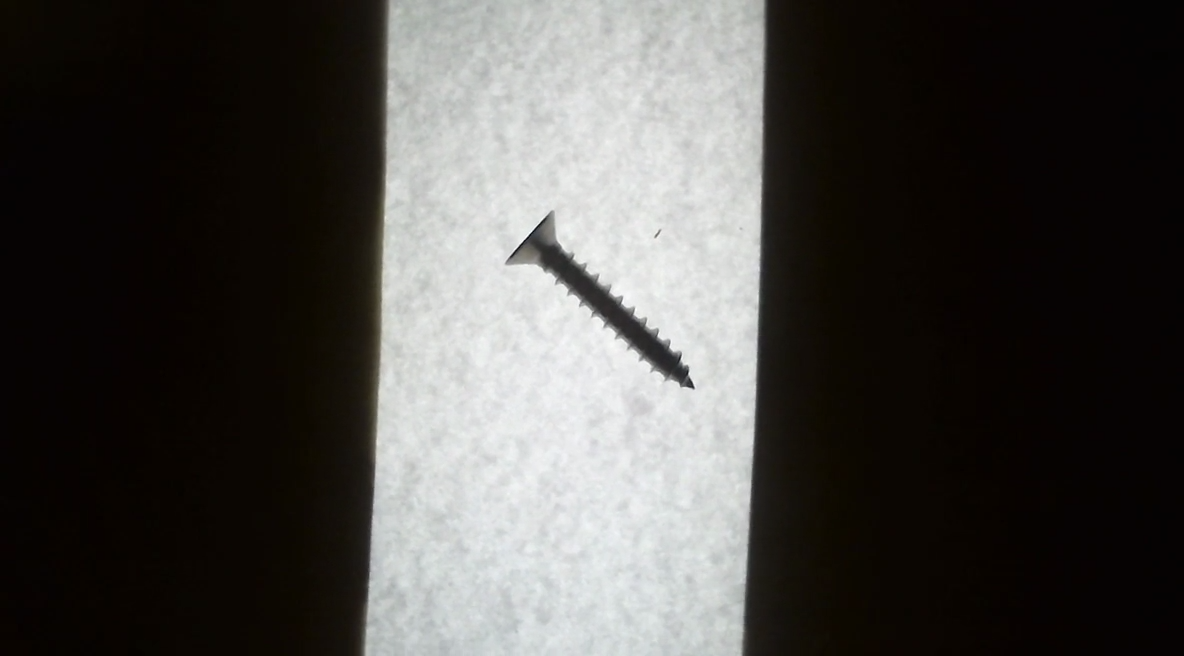S001: (488, 193, 719, 410)
